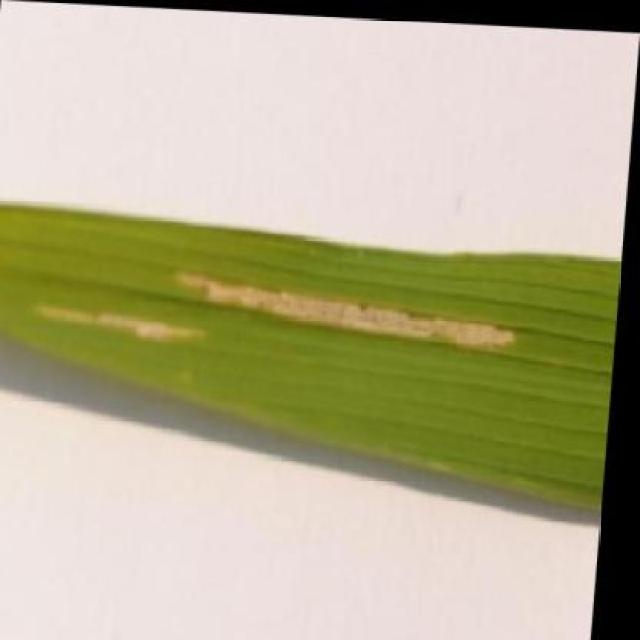Brown_Spot: (0, 198, 628, 510)
